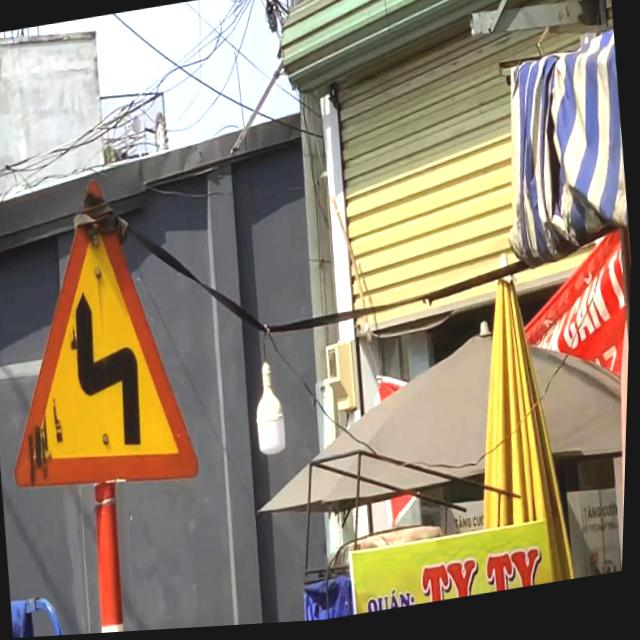Nhieu cho ngoat lien tiep ben trai: (0, 146, 231, 521)
